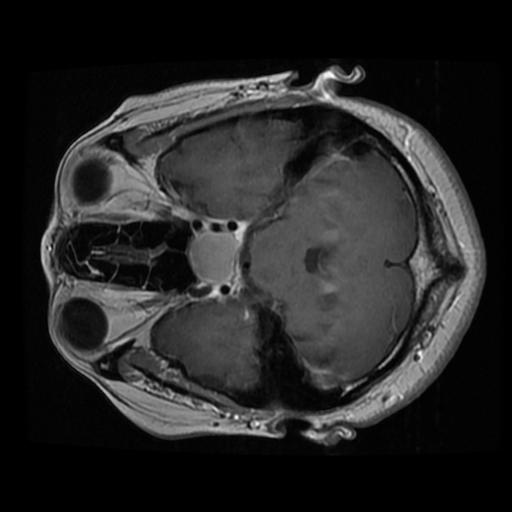pituitary tumour: (189, 232, 235, 286)
